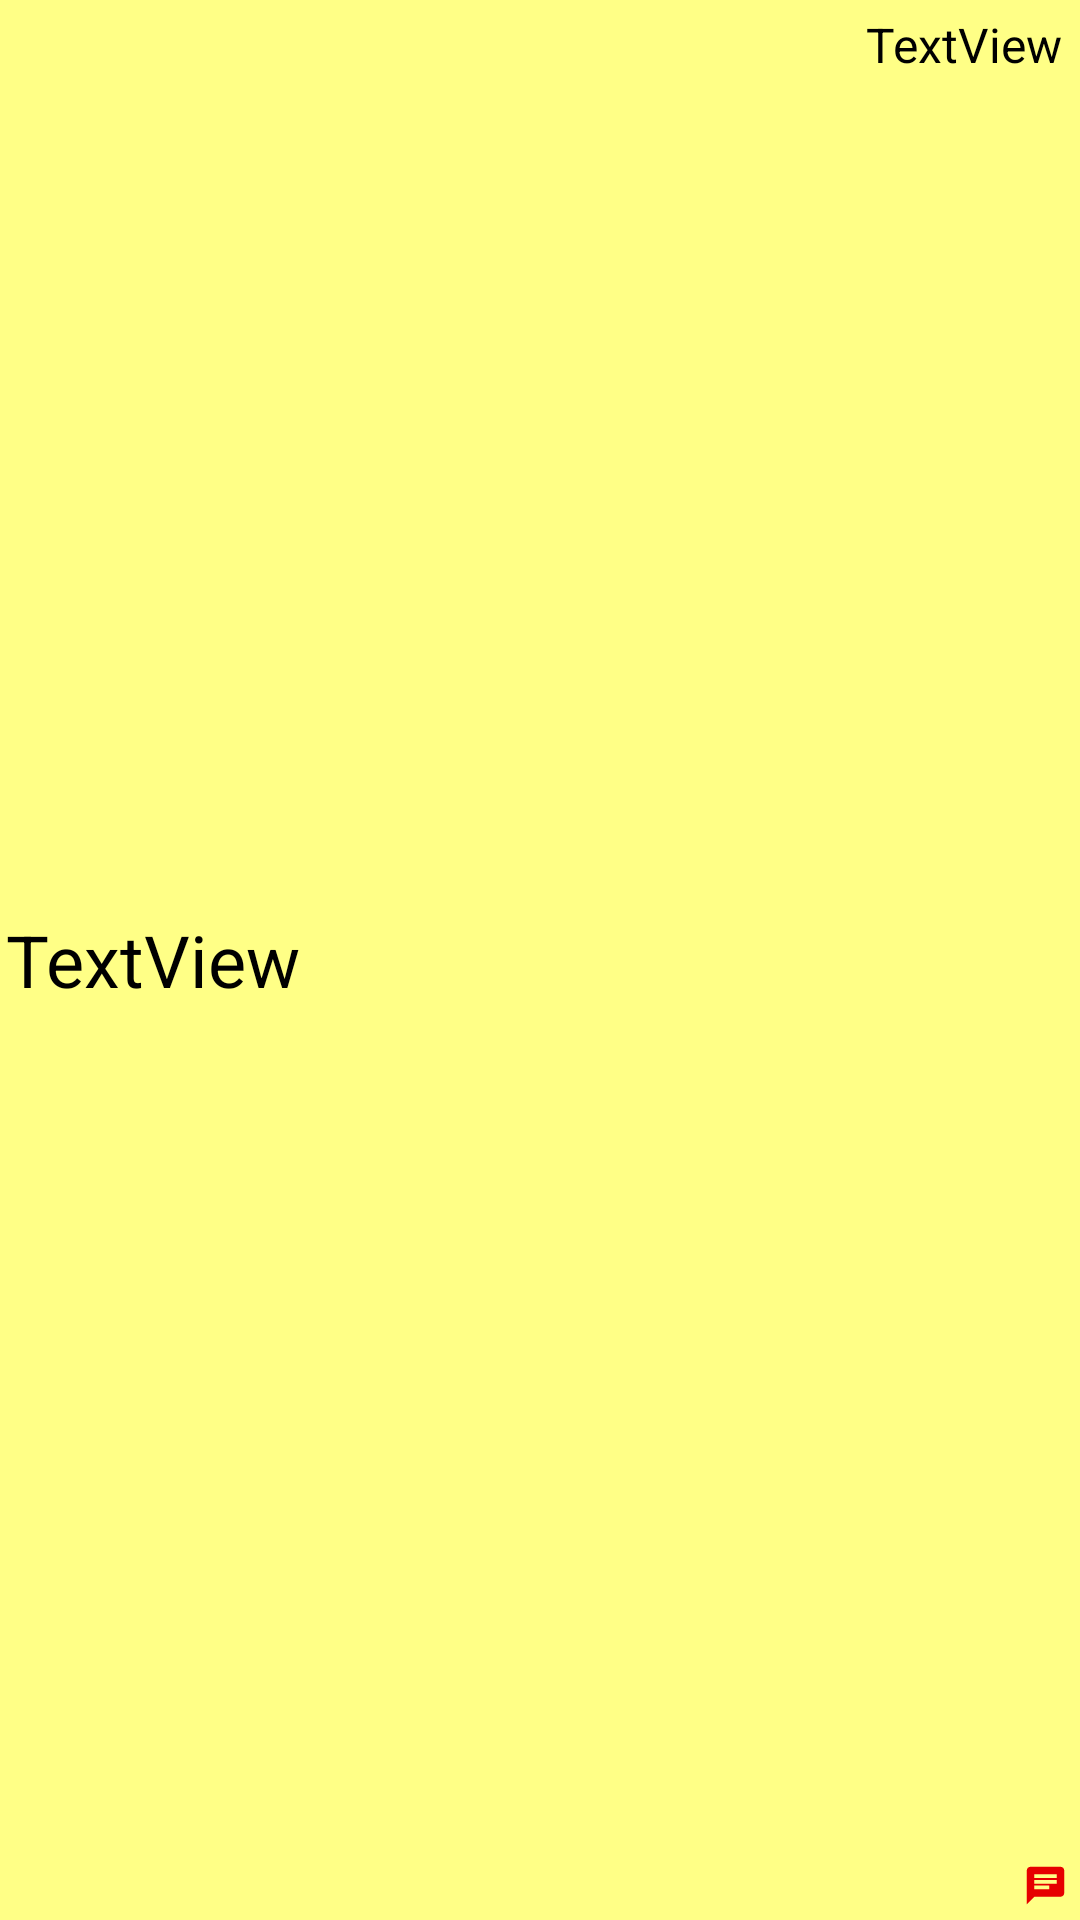

Icons on this 1080w x 1920h Android screen, each with its box as {"x1": x1, "y1": y1, "x2": x2, "y2": y2}:
poznamka: {"x1": 1026, "y1": 1866, "x2": 1065, "y2": 1904}
